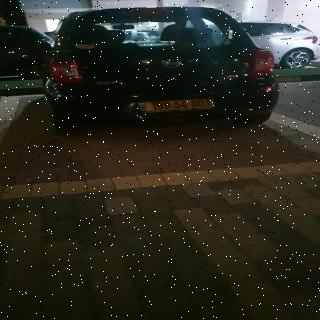LicensePlate: (146, 98, 214, 111)
